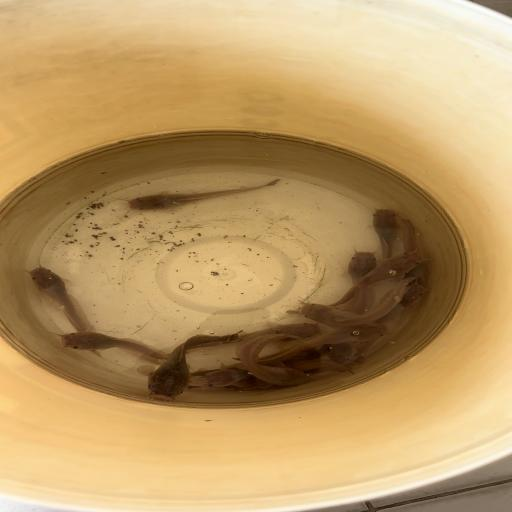lele: (136, 330, 241, 400), (113, 176, 287, 215), (234, 324, 389, 365), (296, 276, 418, 326), (324, 249, 428, 307), (24, 264, 96, 331), (234, 327, 312, 386), (55, 332, 162, 363), (222, 322, 320, 347), (374, 281, 428, 325), (401, 219, 428, 287), (340, 246, 378, 292), (368, 208, 402, 258), (185, 361, 233, 392), (199, 367, 251, 389), (328, 342, 358, 364)
